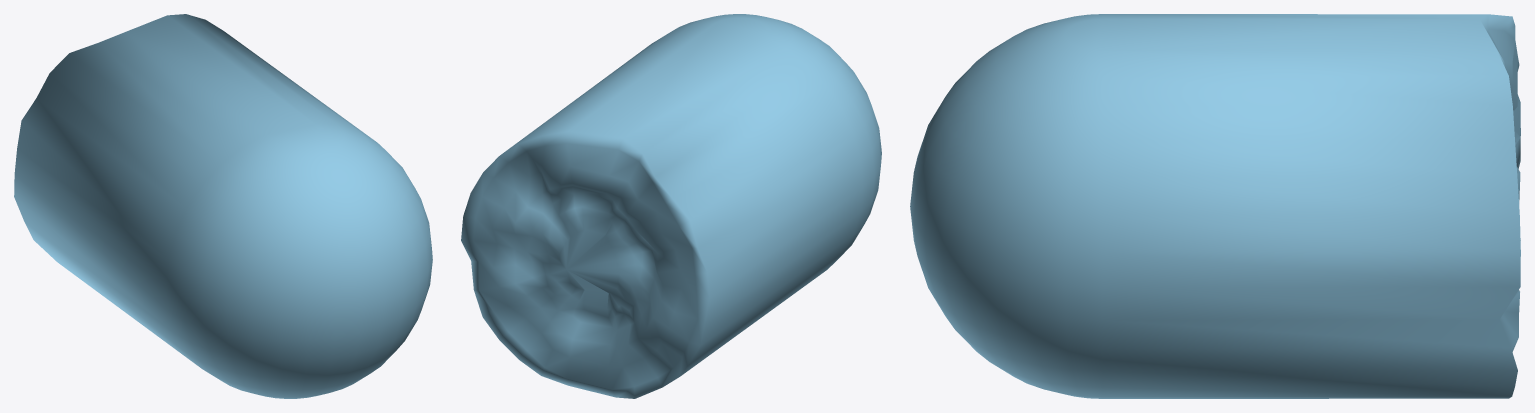
Rendered from bluePillyHalf.fbx.
3 renders of one model, left to right at view 1: azimuth 30°, elevation 25°; view 2: azimuth 150°, elevation 25°; view 3: azimuth 270°, elevation 25°, orthographic. The views are drawn at different scales.
Visible parts, largest first — view 1: blue; view 2: blue; view 3: blue.
Boxes of the visible parts, bbox=[...] form: blue: bbox=[14, 14, 432, 398]; blue: bbox=[461, 14, 881, 398]; blue: bbox=[910, 14, 1520, 398].
Bounding box in the file's own units: 50 × 49.04 × 79.25.
Materials: 1 (1 with a texture image).
